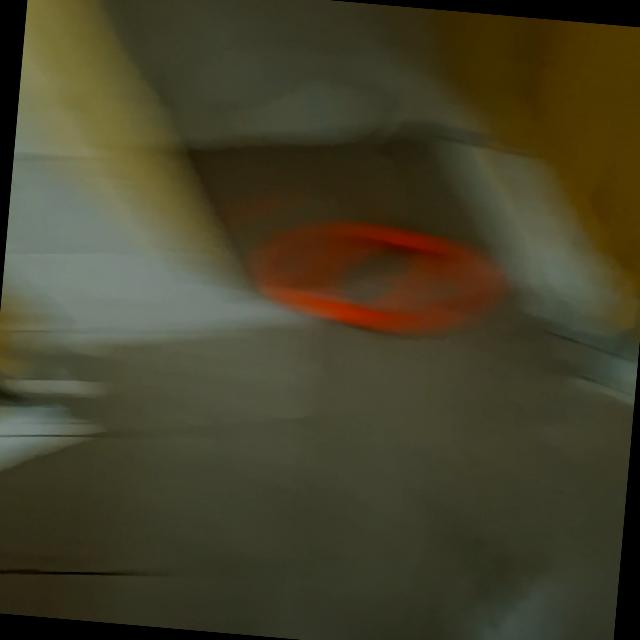note: (237, 210, 516, 346)
